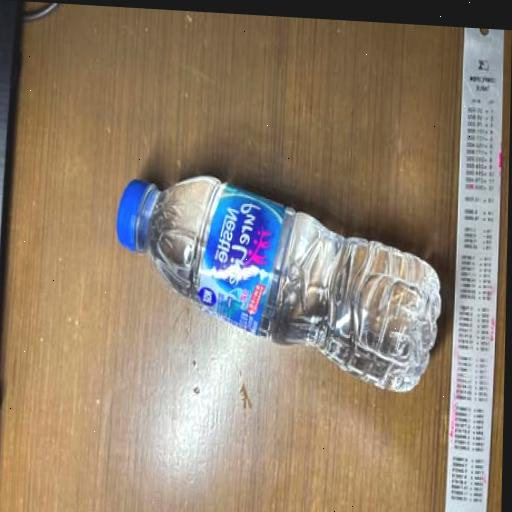bottle: (95, 129, 475, 431)
